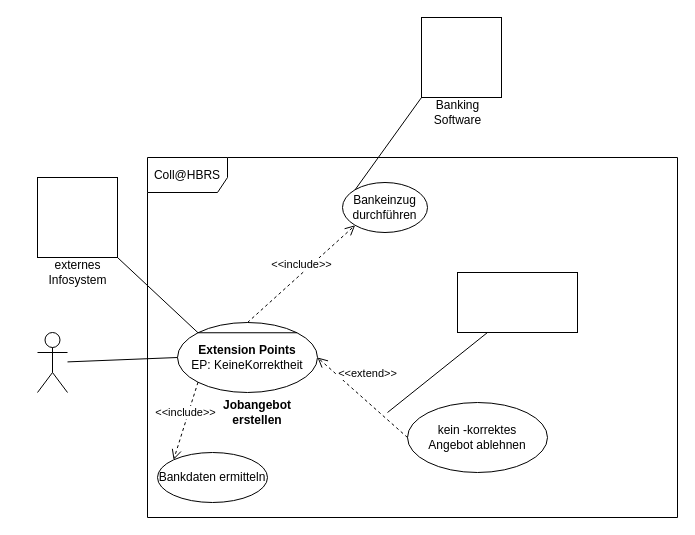
This 695x535 diagram has some shape labels left out. Each missing label, with the centre of its shape:
"Condition: {siehe Nr. 6-1 a)} Extension Point: KeineKorrektheit" goes at pixel 517 302.
"Unternehmer" goes at pixel 52 362.
